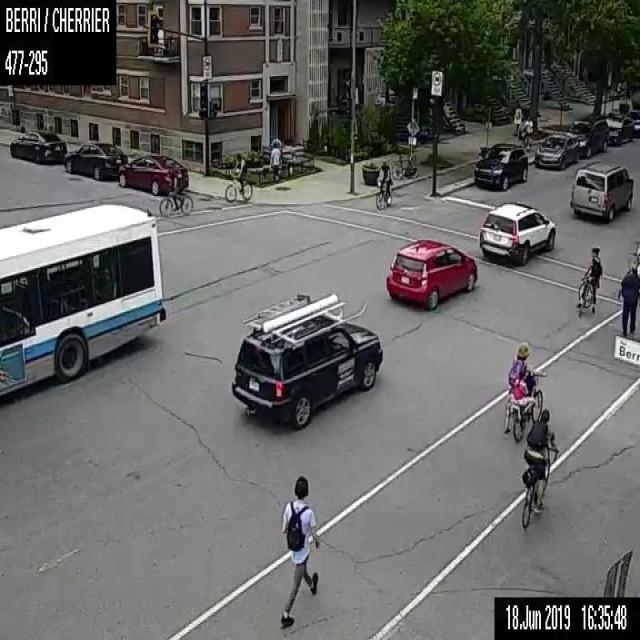bus: (0, 200, 168, 397)
cyclist: (521, 408, 559, 530), (504, 340, 545, 441), (575, 246, 602, 319), (158, 167, 192, 215), (224, 152, 252, 201), (374, 158, 394, 210), (522, 114, 532, 150)
pedestrian: (279, 473, 321, 627), (617, 252, 639, 334), (269, 141, 280, 184)
vehicle: (230, 291, 382, 428), (385, 238, 477, 310), (478, 200, 556, 265), (569, 160, 632, 220), (118, 153, 188, 193), (472, 142, 527, 190), (63, 142, 127, 180), (9, 129, 67, 164), (533, 132, 578, 168), (567, 118, 608, 156), (604, 111, 633, 145), (628, 110, 639, 136)
